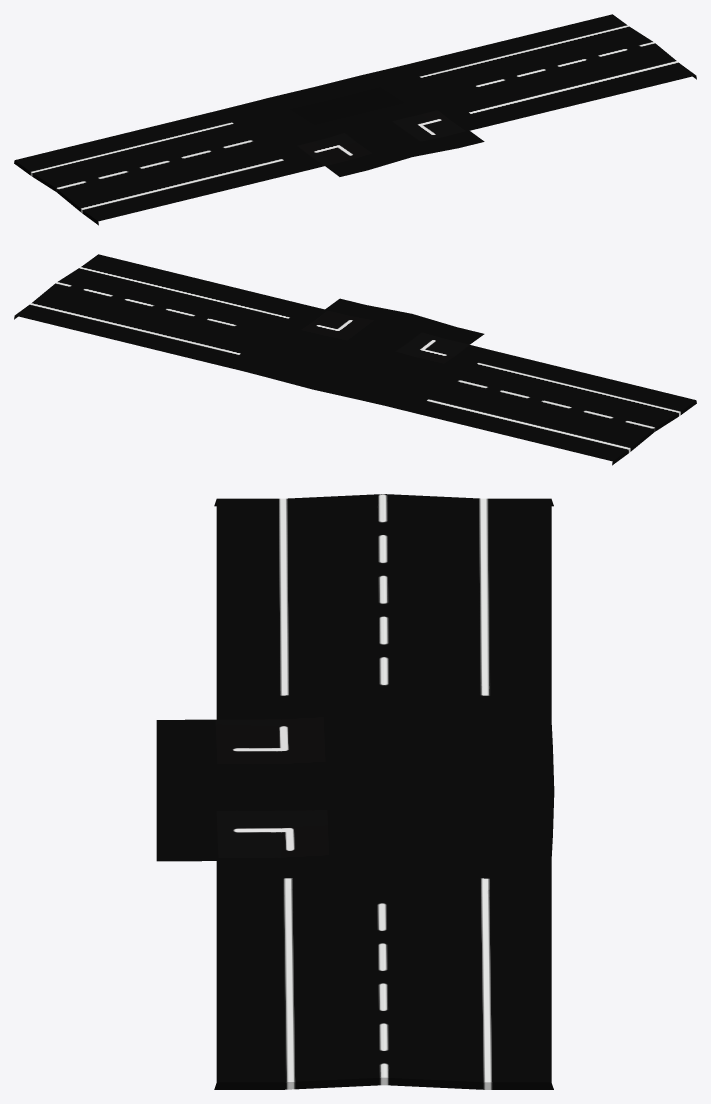
File: roadT_noSideWalks.fbx
3 views of the same model, one above another, from view 1: azimuth 30°, elevation 25°; view 2: azimuth 150°, elevation 25°; view 3: azimuth 270°, elevation 25° (orthographic). The views are drawn at different scales.
Parts seen in each view (by area): view 1: pCube4; view 2: pCube4; view 3: pCube4.
Part boxes in pixels (bbox=[...]): pCube4: bbox=[14, 14, 696, 225]; pCube4: bbox=[14, 254, 696, 465]; pCube4: bbox=[156, 494, 554, 1089].
Size of the model in its own units: 133 by 1.31 by 38.3.
Materials: 1 (1 with a texture image).
